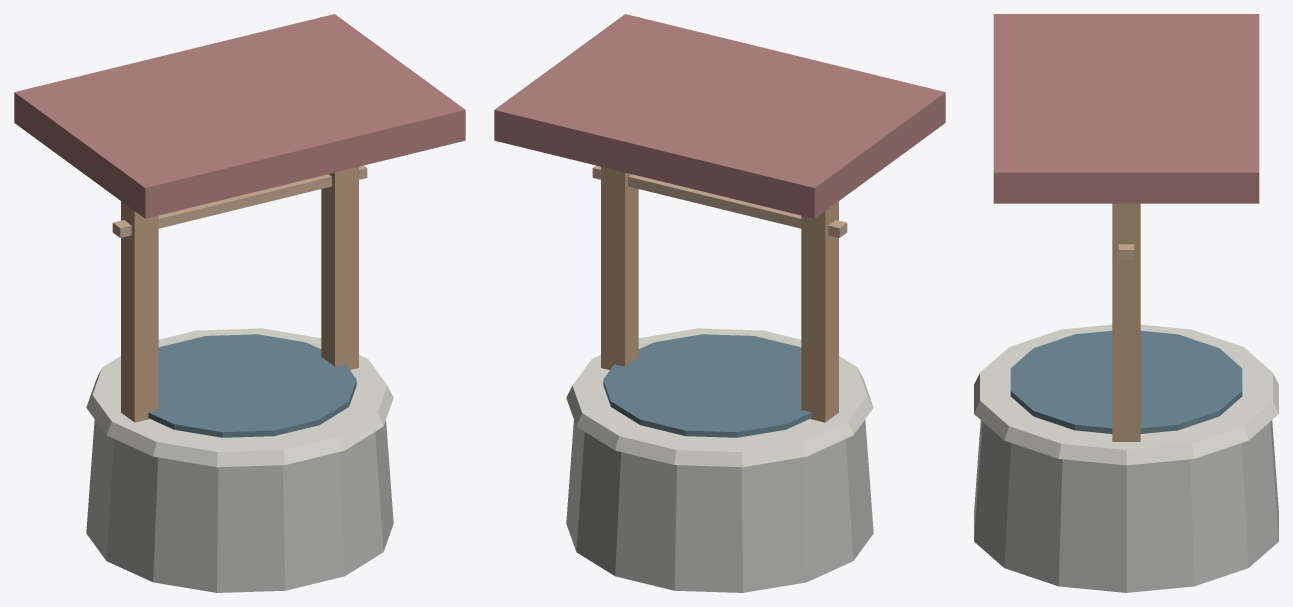
The model's file is warlike-medieval-well-3d.gltf.
3 renders of one model, left to right at view 1: azimuth 30°, elevation 25°; view 2: azimuth 150°, elevation 25°; view 3: azimuth 270°, elevation 25°, orthographic.
Visible parts, largest first — view 1: Part 5, Part 0, Part 2, Part 1, Part 3, Part 4, Part 6; view 2: Part 5, Part 0, Part 2, Part 1, Part 3, Part 4, Part 6; view 3: Part 5, Part 0, Part 2, Part 1, Part 4.
Boxes of the visible parts, <box> form: Part 5: <box>14,14,465,218</box>; Part 0: <box>86,419,393,592</box>; Part 2: <box>148,334,356,437</box>; Part 1: <box>86,328,393,467</box>; Part 3: <box>121,201,158,422</box>; Part 4: <box>321,166,358,369</box>; Part 6: <box>112,165,367,237</box>; Part 5: <box>494,14,945,218</box>; Part 0: <box>566,419,873,592</box>; Part 2: <box>603,334,811,437</box>; Part 1: <box>566,328,873,467</box>; Part 3: <box>801,201,838,422</box>; Part 4: <box>601,166,638,369</box>; Part 6: <box>592,165,847,237</box>; Part 5: <box>993,14,1259,203</box>; Part 0: <box>974,420,1278,592</box>; Part 2: <box>1010,330,1242,433</box>; Part 1: <box>974,324,1278,465</box>; Part 4: <box>1112,203,1140,441</box>.
Bounding box in the file's own units: 2.4 × 3.06 × 1.95.
